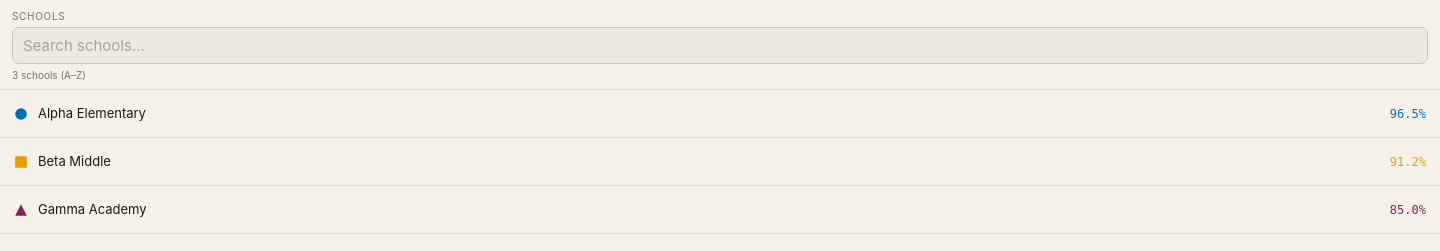
SchoolList › filters schools by search input
Type "Alpha" into the search field with placeholder "Search schools…" at x=720, y=46, box [12,27,1428,64]
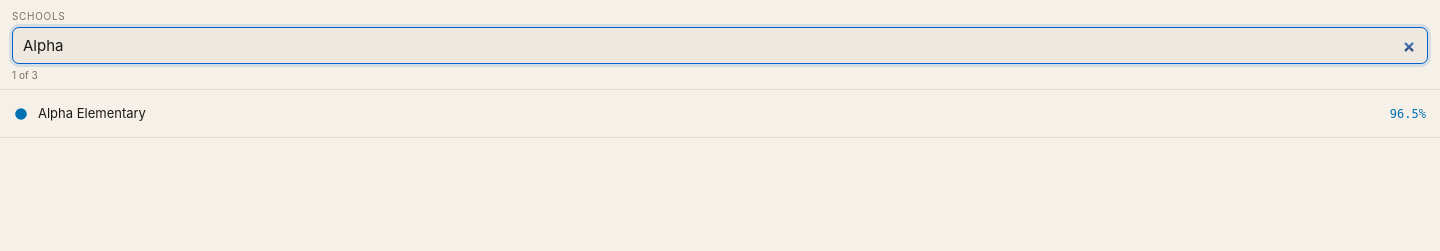
Check: the text "Alpha Elementary" is shown, box [38,105,146,121]
Check: the option "Beta Middle" is gone
Check: the text "1 of 3" is shown, box [12,69,38,81]
